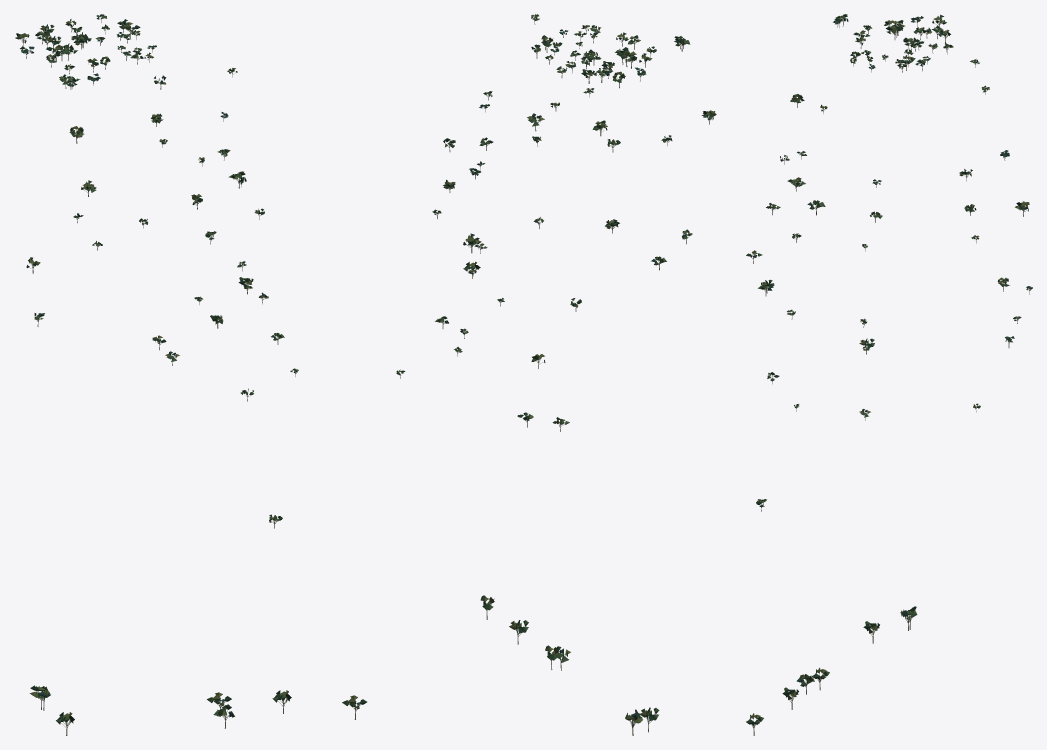
The model's file is forest_20_22.dae.
The picture shows the model from 3 angles, left to right: view 1: azimuth 30°, elevation 25°; view 2: azimuth 150°, elevation 25°; view 3: azimuth 270°, elevation 25°; orthographic projection. The views are drawn at different scales.
Parts seen in each view (by area): view 1: Node; view 2: Node; view 3: Node.
Boxes of the visible parts, x1,y1,x2,y2 form: Node: [15, 14, 366, 735]; Node: [396, 14, 716, 735]; Node: [746, 14, 1032, 735].
Size of the model in its own units: 9.15 by 9.59 by 23.
